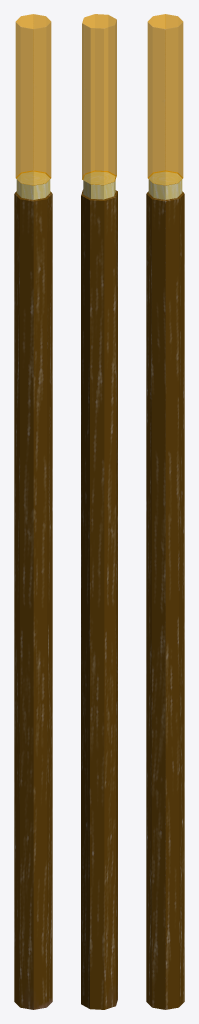
The model's file is Nomada_palo.obj.
The picture shows the model from 3 angles, left to right: view 1: azimuth 90°, elevation 25°; view 2: azimuth 150°, elevation 25°; view 3: azimuth 270°, elevation 25°; orthographic projection.
Parts seen in each view (by area): view 1: palo.003; view 2: palo.003; view 3: palo.003.
Part boxes in pixels (x1,y1,x2,y2): palo.003: (14, 14, 52, 1009); palo.003: (81, 14, 117, 1009); palo.003: (146, 14, 184, 1009).
Bounding box in the file's own units: 0.1801 × 5.12 × 0.1801.
2 materials, 2 textured.
